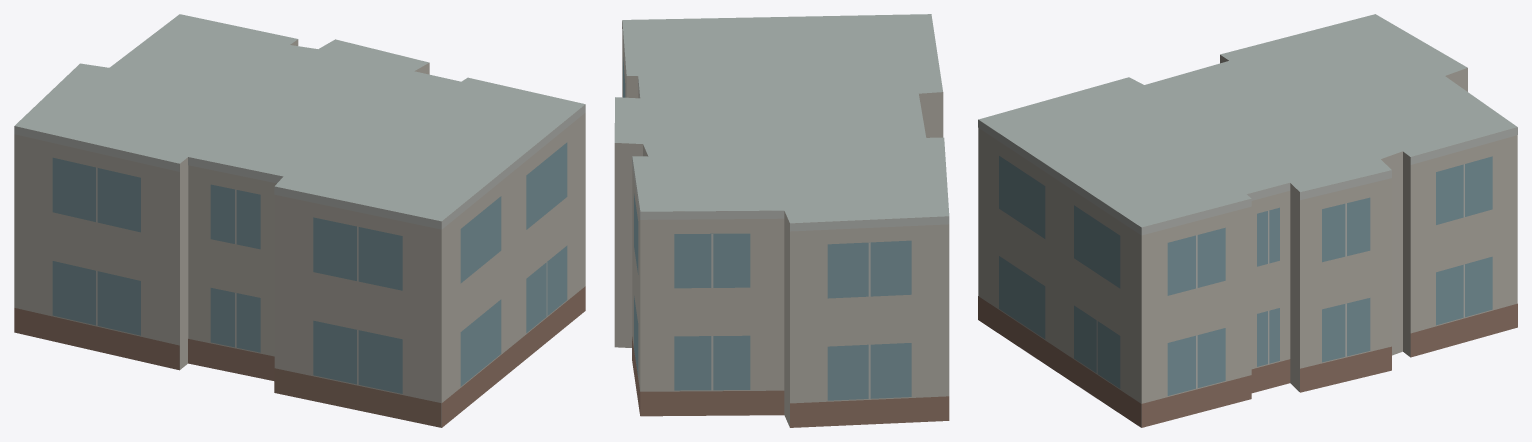
The model's file is survey-upis-32931549.glb.
The picture shows the model from 3 angles, left to right: view 1: azimuth 30°, elevation 25°; view 2: azimuth 150°, elevation 25°; view 3: azimuth 270°, elevation 25°; orthographic projection. The views are drawn at different scales.
Parts seen in each view (by area): view 1: survey-upis-32931549.tmp; view 2: survey-upis-32931549.tmp; view 3: survey-upis-32931549.tmp.
Part boxes in pixels (bbox=[...]): survey-upis-32931549.tmp: bbox=[14, 14, 585, 427]; survey-upis-32931549.tmp: bbox=[614, 14, 949, 427]; survey-upis-32931549.tmp: bbox=[978, 14, 1517, 427].
Bounding box in the file's own units: 13.95 × 6.1 × 14.89.
